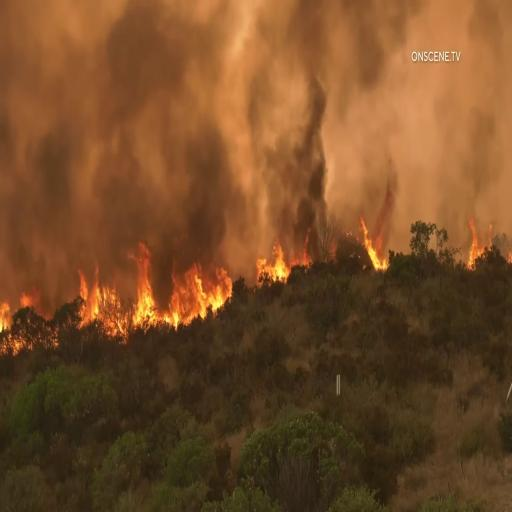fire: (165, 252, 234, 328), (68, 252, 122, 340), (125, 241, 162, 337), (358, 210, 385, 275), (255, 234, 287, 286), (468, 218, 484, 279)
smoke: (258, 8, 336, 232), (177, 40, 245, 250)
